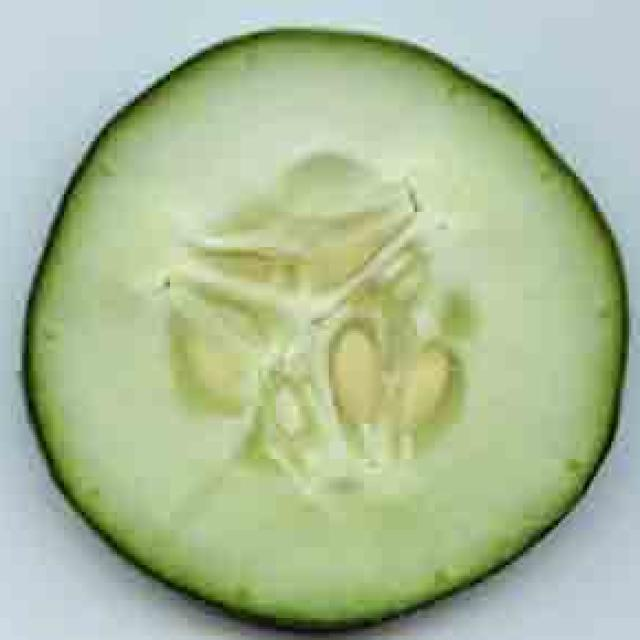cucumber: (6, 15, 640, 635)
